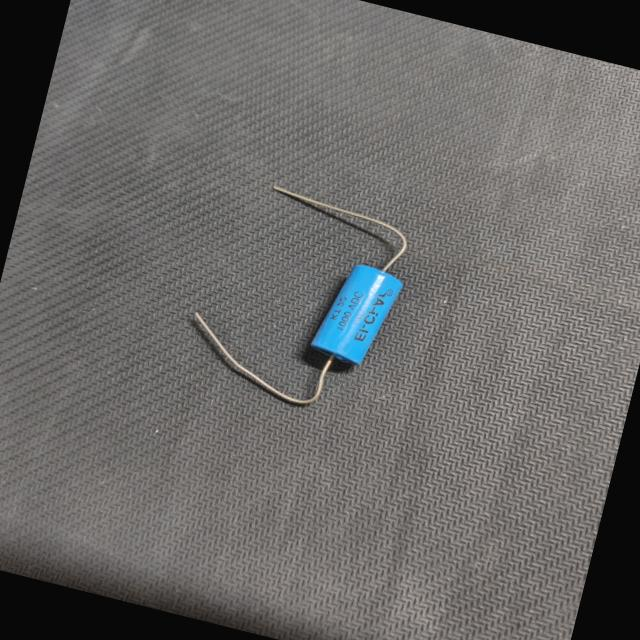capacitor: (156, 150, 434, 430)
